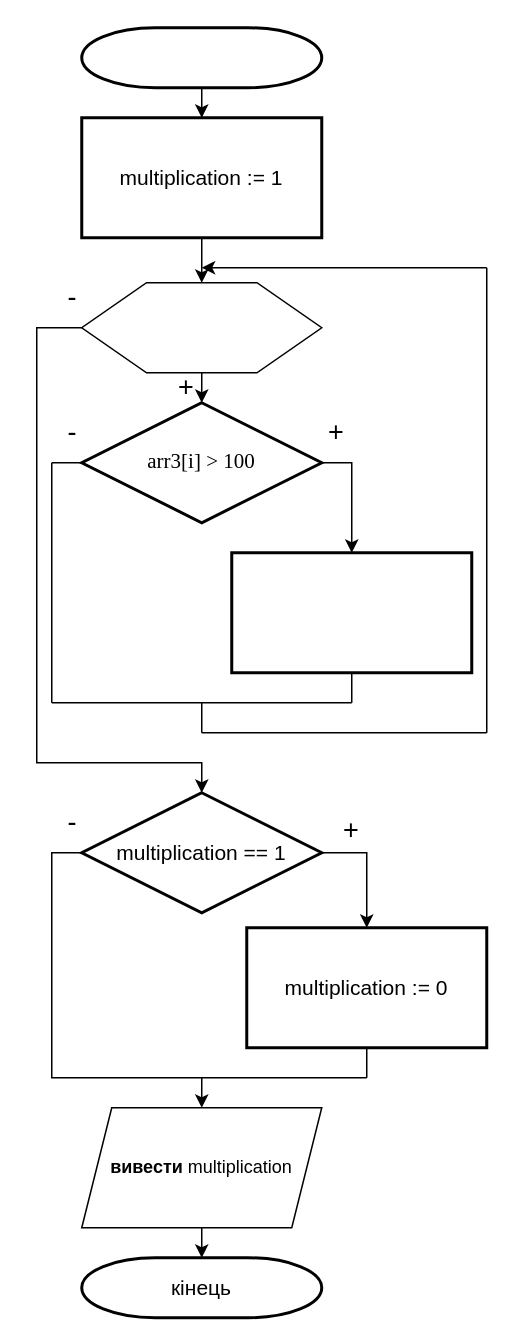
The diagram is 525 pixels wide and 1344 high, and some of its shapes have lost their labels. The shapes that lost their labels are listed below. From the top down, each one's box as (x1, y1, x2, y2) in pixels, then its label:
(80, 26, 322, 88): mult_elements(arr3, SIZE)
(80, 281, 322, 373): i := 0, SIZE, 1
(230, 550, 472, 674): multiplication *= arr3[i]
